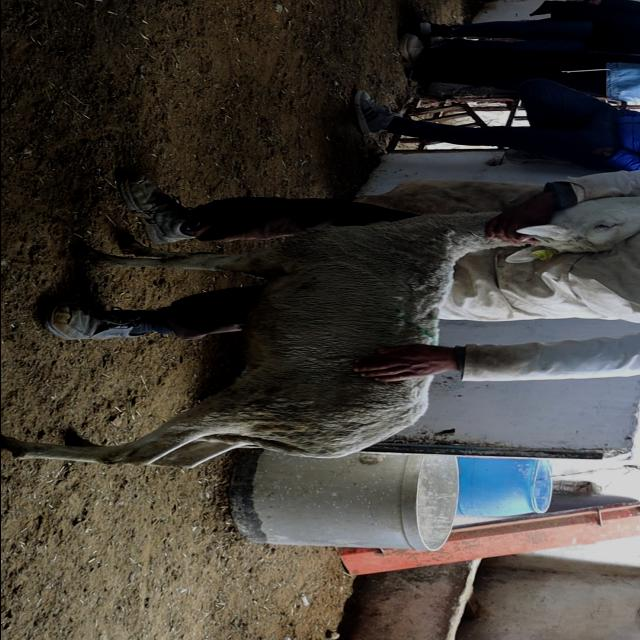Score_1: (1, 212, 495, 468)
